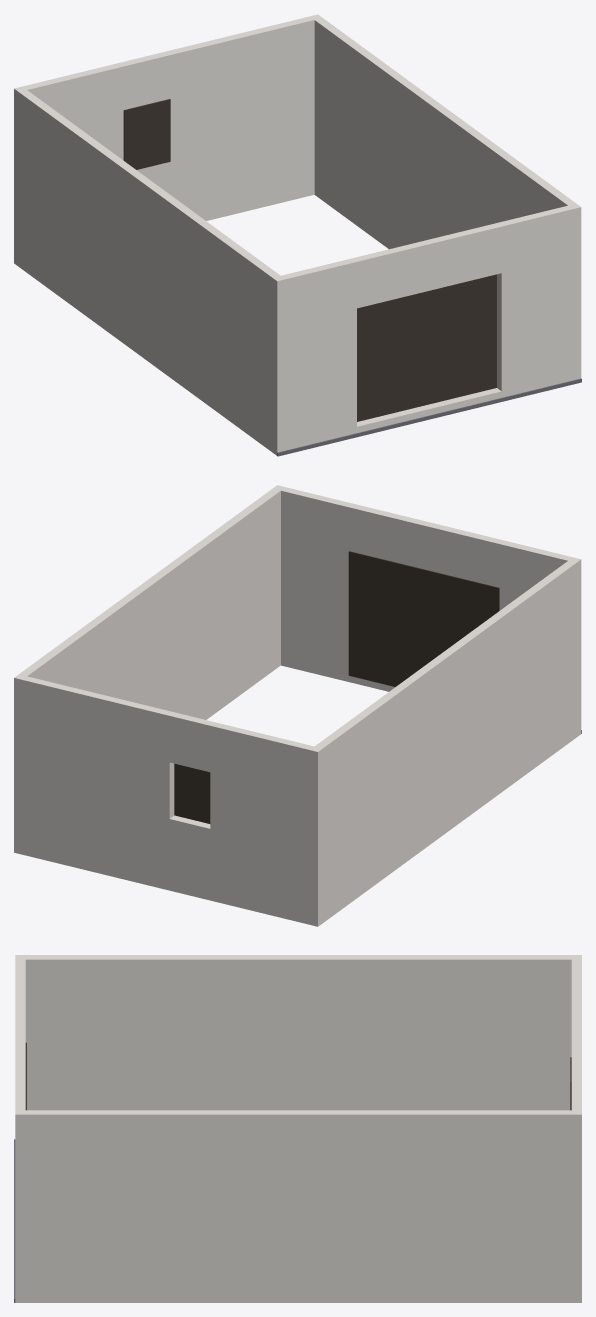
File: SM_Floor_NarrowUpperBalcony_White_546_Back_01.gltf
3 views of the same model, one above another, from view 1: azimuth 30°, elevation 25°; view 2: azimuth 150°, elevation 25°; view 3: azimuth 270°, elevation 25° (orthographic). The views are drawn at different scales.
Visible parts, largest first — view 1: SM_Floor_NarrowUpperBalcony_White_546_Back_01; view 2: SM_Floor_NarrowUpperBalcony_White_546_Back_01; view 3: SM_Floor_NarrowUpperBalcony_White_546_Back_01.
Part boxes in pixels (box(x1,y1,x2,y2)): SM_Floor_NarrowUpperBalcony_White_546_Back_01: box(14, 14, 581, 456); SM_Floor_NarrowUpperBalcony_White_546_Back_01: box(14, 485, 581, 926); SM_Floor_NarrowUpperBalcony_White_546_Back_01: box(14, 955, 581, 1302).
Size of the model in its own units: 5.46 by 3 by 8.21.
1 material, 1 textured.
